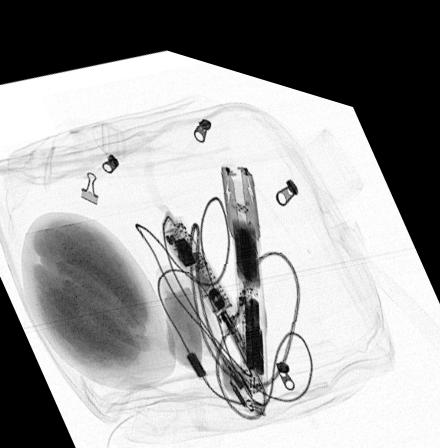Baton: (218, 150, 269, 377)
